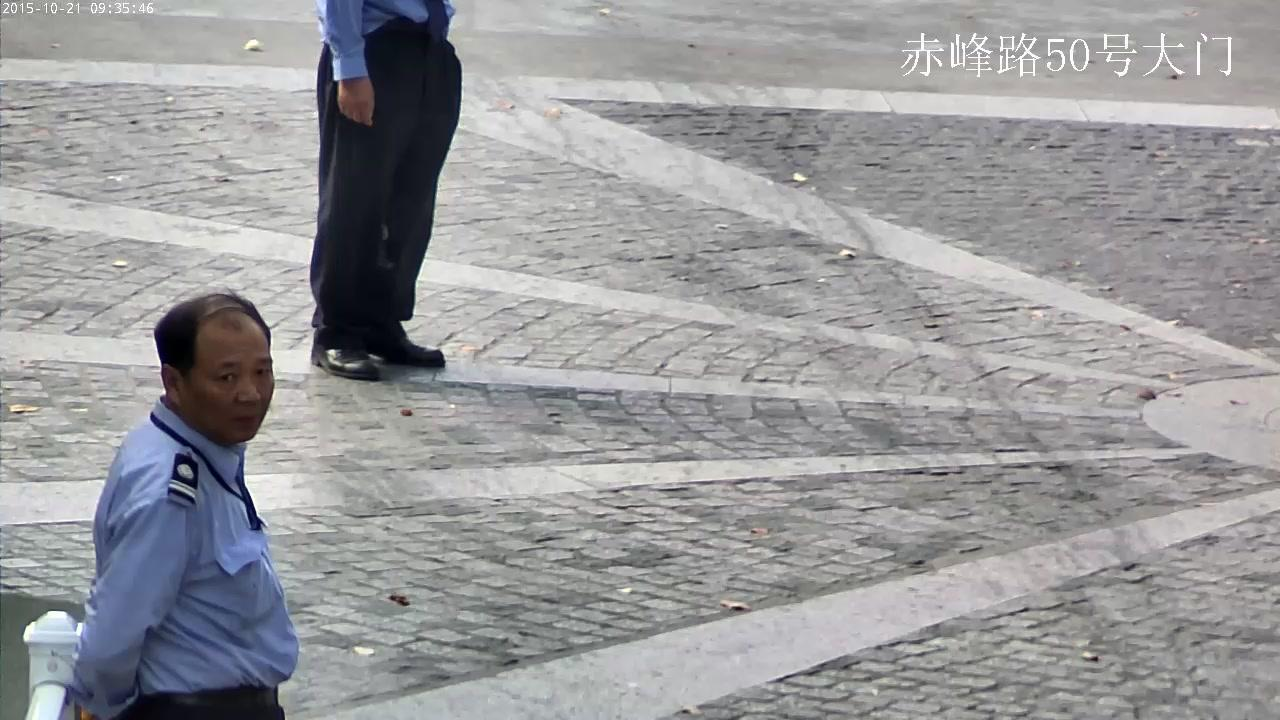face: (180, 321, 274, 441)
